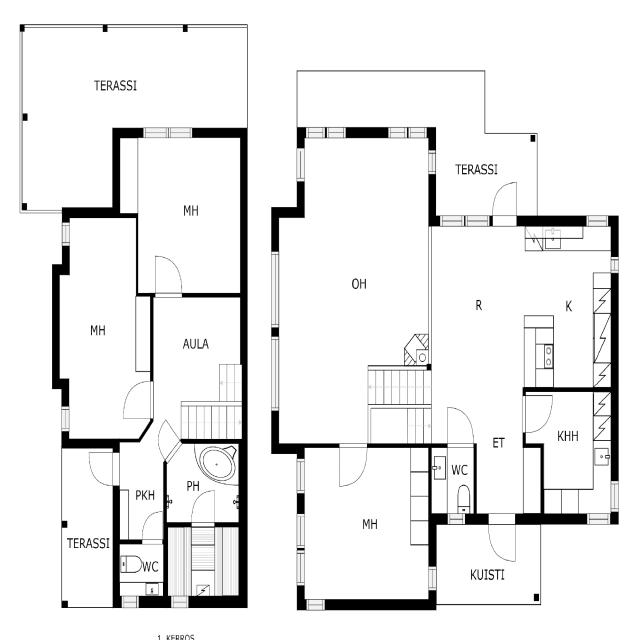door: (117, 376, 156, 424), (486, 512, 519, 567), (151, 251, 186, 301), (442, 402, 477, 450), (336, 442, 370, 491), (85, 446, 122, 490), (522, 391, 556, 437), (490, 178, 521, 227), (188, 490, 218, 525), (157, 417, 180, 459), (141, 508, 164, 543)
window: (262, 243, 286, 423), (266, 244, 284, 338), (136, 120, 198, 143), (267, 331, 283, 416), (300, 121, 353, 142), (294, 513, 308, 591), (381, 121, 430, 143), (437, 211, 492, 230), (580, 211, 613, 231), (294, 142, 308, 188), (58, 217, 73, 254), (582, 511, 614, 526), (609, 477, 621, 516), (296, 454, 306, 499), (426, 146, 439, 179), (59, 402, 71, 436), (444, 512, 469, 528), (427, 562, 439, 594), (168, 594, 192, 610), (610, 251, 621, 283), (304, 598, 328, 612), (120, 596, 142, 610)
zone: (277, 129, 431, 438), (59, 213, 152, 442), (302, 445, 432, 607), (120, 131, 246, 297), (430, 225, 526, 394), (528, 225, 614, 392), (151, 294, 245, 444), (523, 388, 615, 520), (164, 442, 242, 525), (165, 524, 243, 602), (260, 241, 286, 422), (118, 440, 164, 540), (429, 443, 474, 522), (116, 542, 163, 599)
